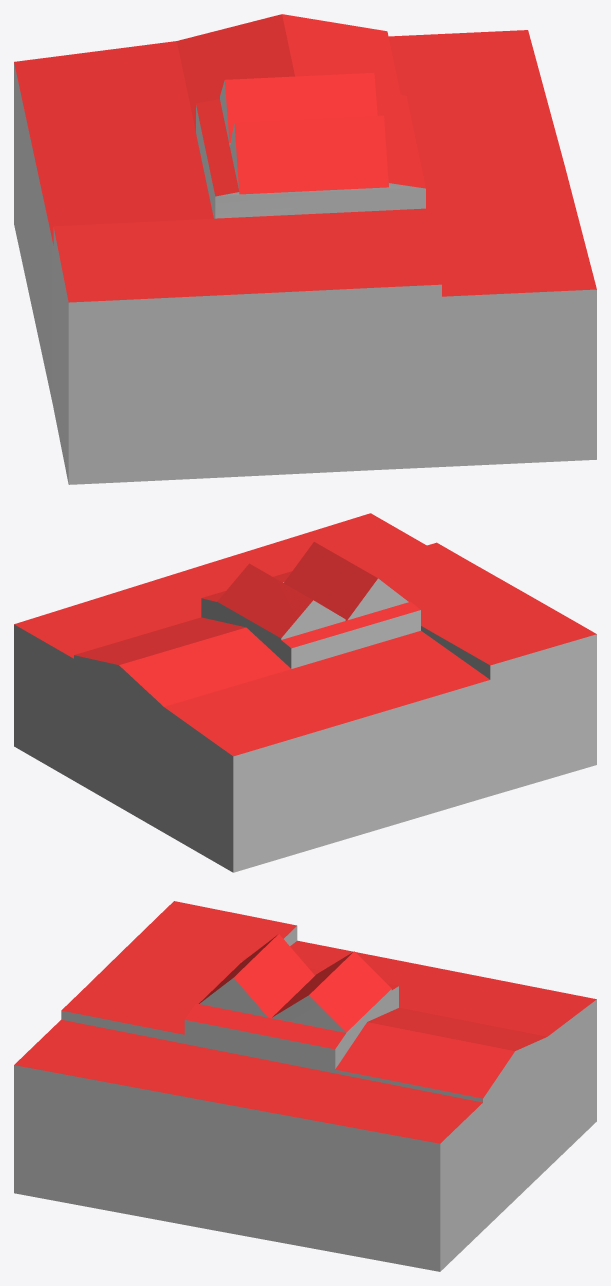
Rendered from DEBY_LOD2_4907176.dae.
3 views of the same model, one above another, from view 1: azimuth 30°, elevation 25°; view 2: azimuth 150°, elevation 25°; view 3: azimuth 270°, elevation 25° (orthographic). The views are drawn at different scales.
Size of the model in its own units: 29.28 by 30.87 by 11.16.
